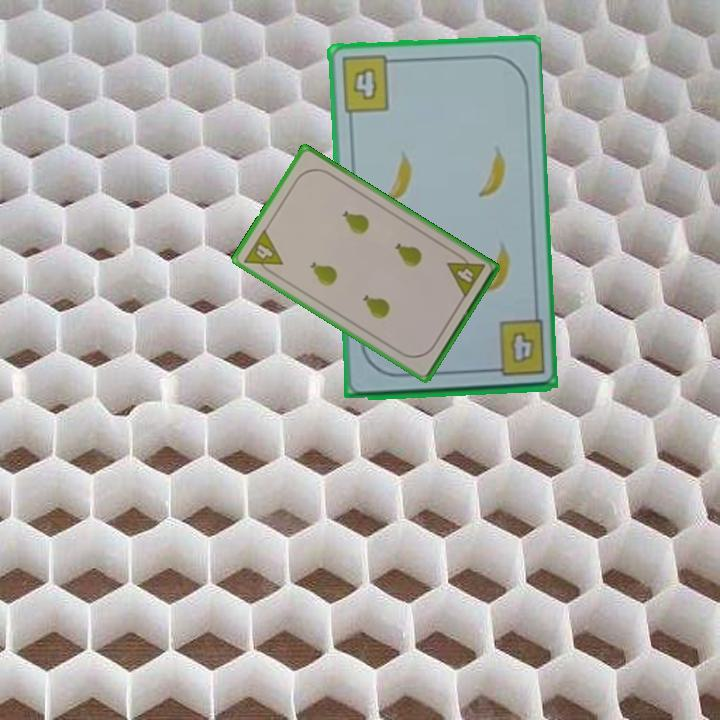4b: (482, 317, 547, 380), (338, 52, 400, 115)
4p: (240, 225, 286, 279), (443, 249, 488, 301)
